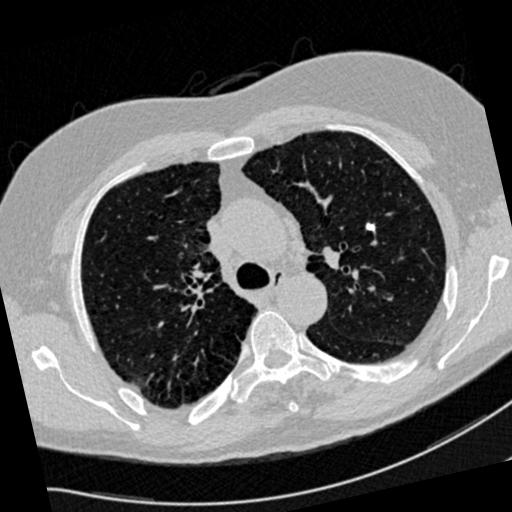nodule: (362, 220, 378, 236)
